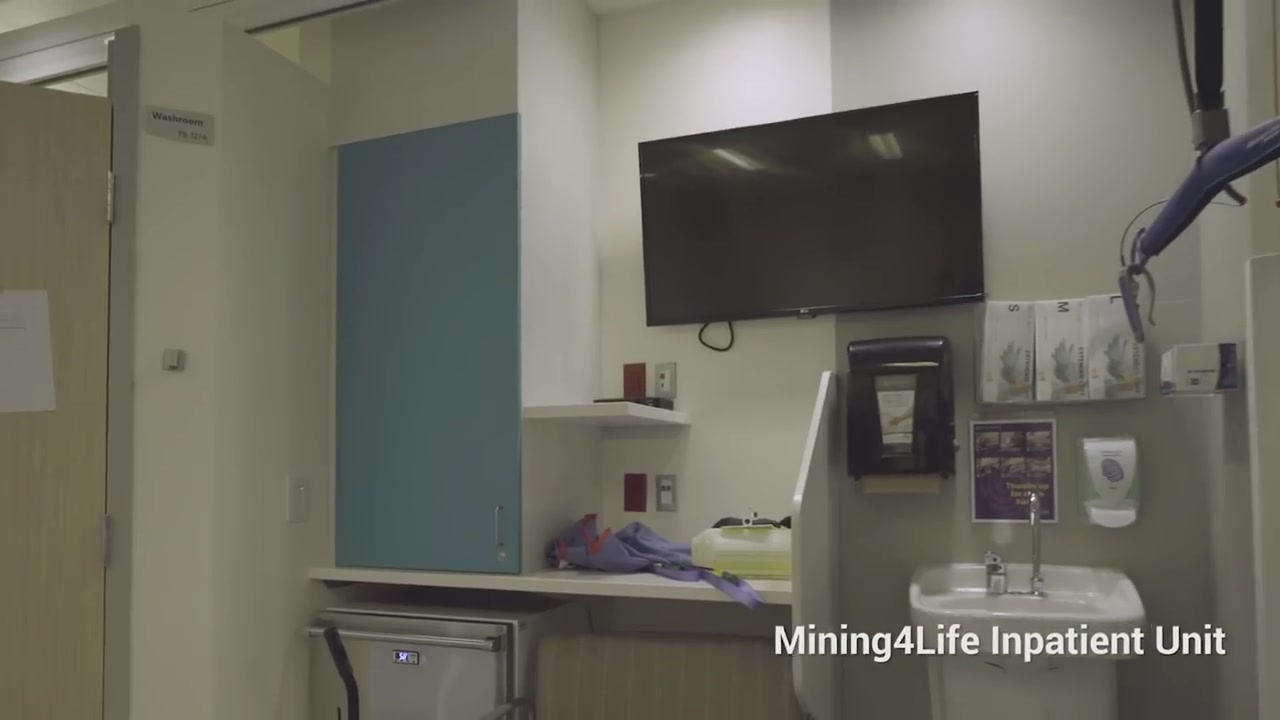TV: (637, 91, 985, 326)
countertop: (307, 566, 795, 593)
dispenser: (974, 293, 1146, 404), (845, 335, 956, 479), (1081, 438, 1144, 528)
door_handle: (495, 505, 506, 559)
faucet: (1023, 489, 1055, 590), (976, 548, 1010, 605)
handle: (289, 617, 507, 661)
light_switch: (284, 471, 313, 526)
sink: (910, 551, 1148, 720)
